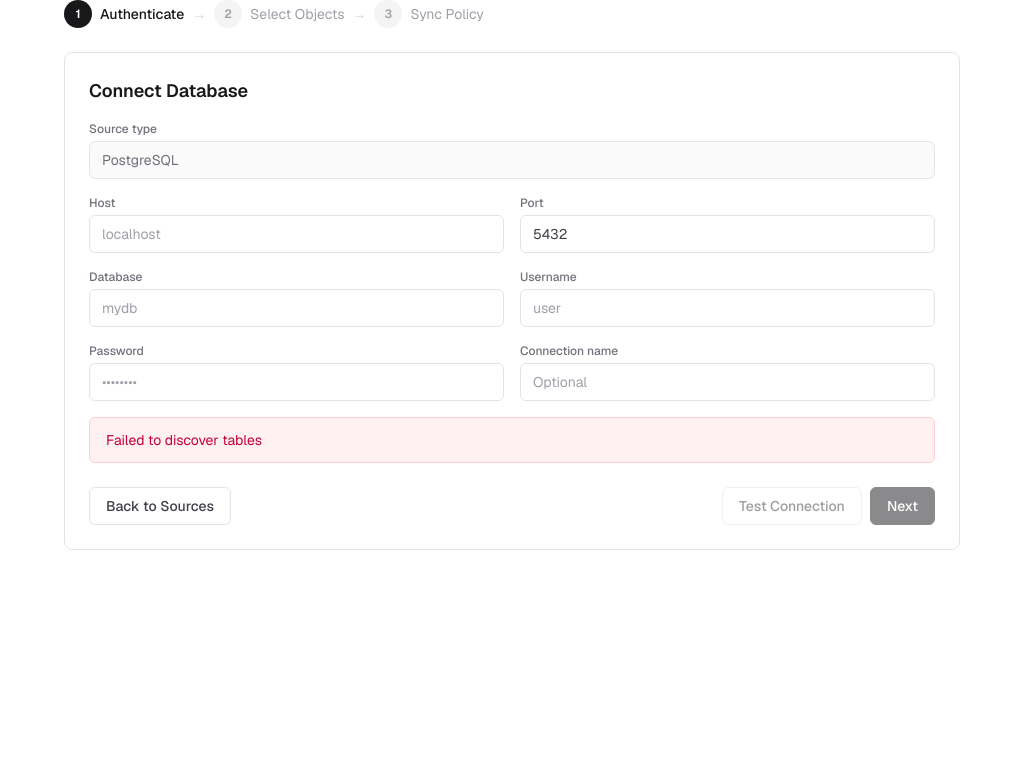
Test: SourceSetupWizard — DB source (postgresql) › shows error when fetchTableDiscovery throws
Type "host" into the field with placeholder "localhost" at (296, 234), box [89, 215, 504, 253]
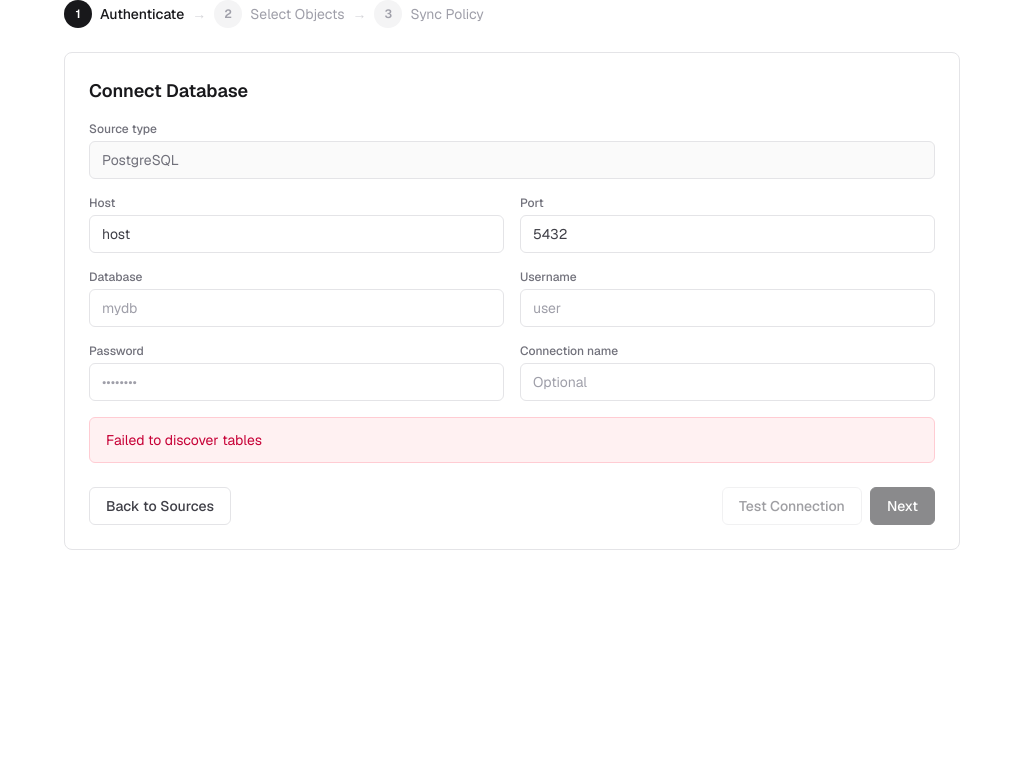
Type "db" into the field with placeholder "mydb" at (296, 308), box [89, 289, 504, 327]
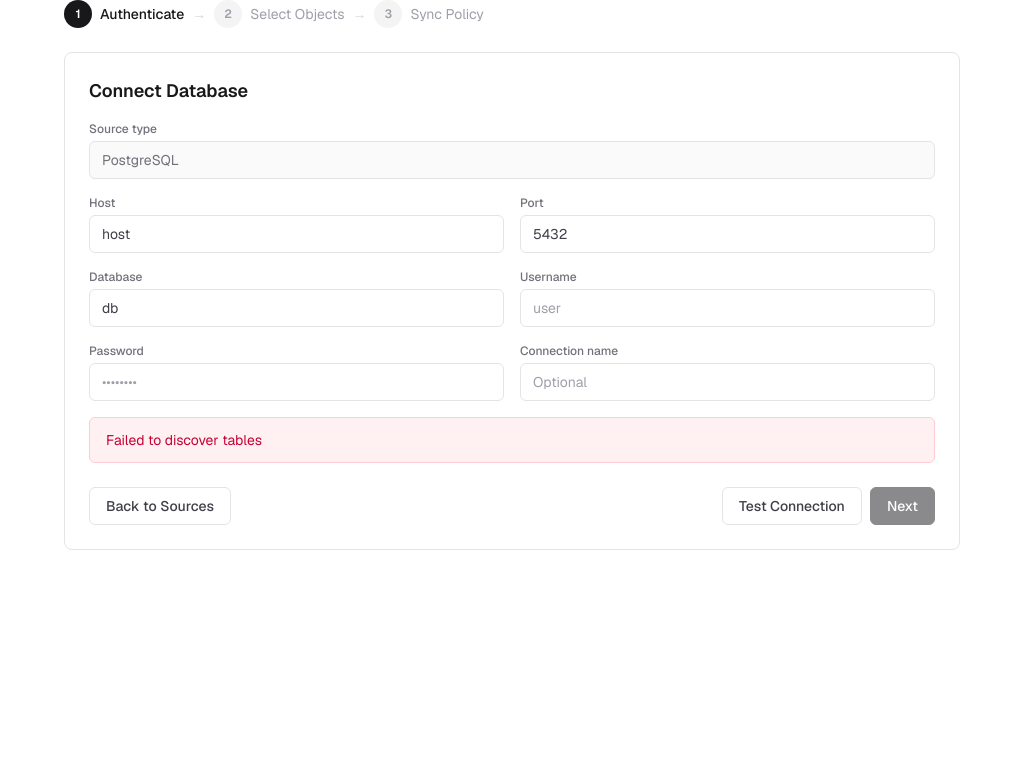
Click the button "Test Connection" at (792, 506), box [722, 487, 862, 525]
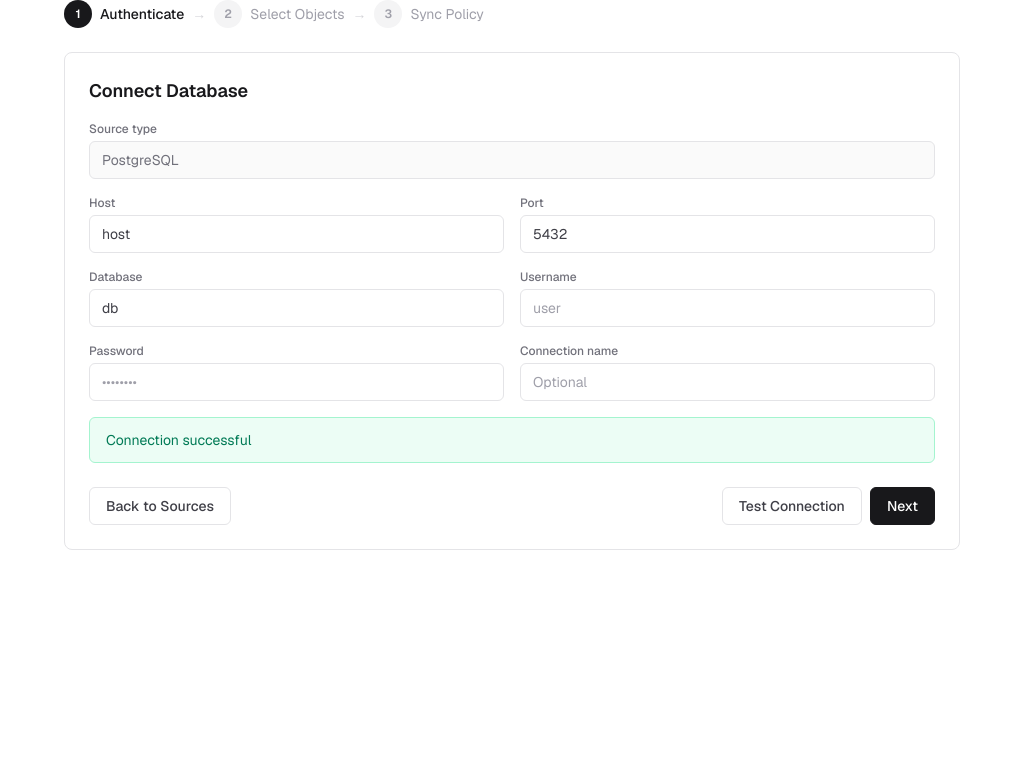
Check: the text "Connection successful" is shown, box [89, 417, 935, 463]
Click the button "Next" at (902, 506), box [870, 487, 935, 525]
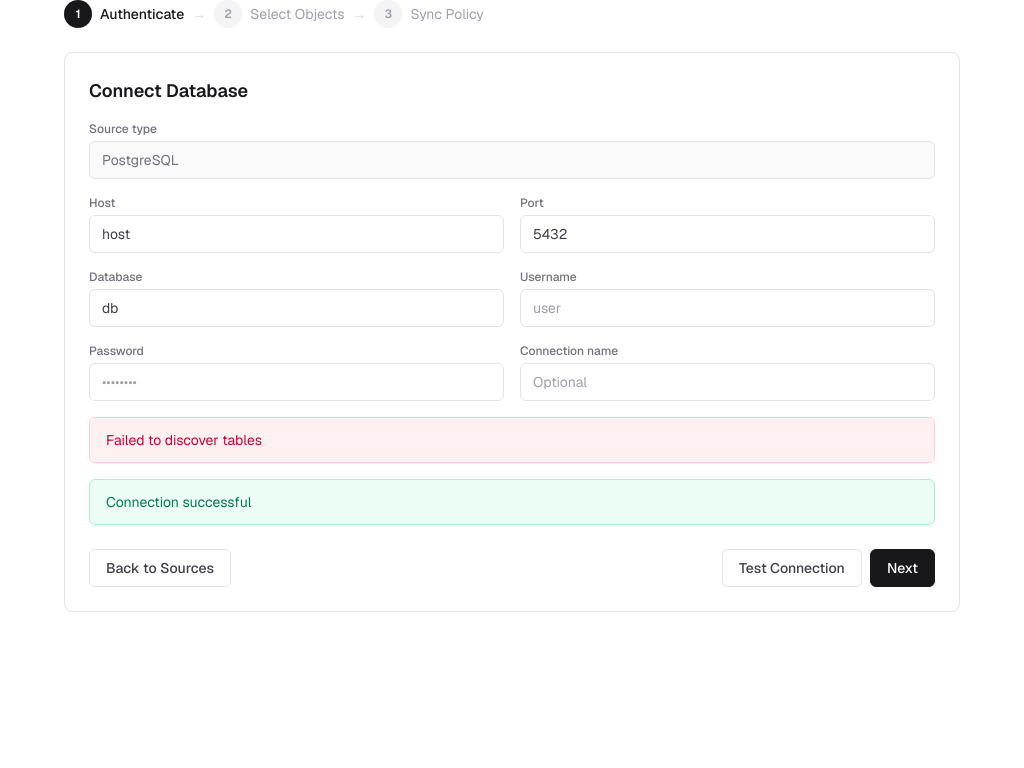
Check: the text "Failed to discover tables" is shown, box [89, 417, 935, 463]
